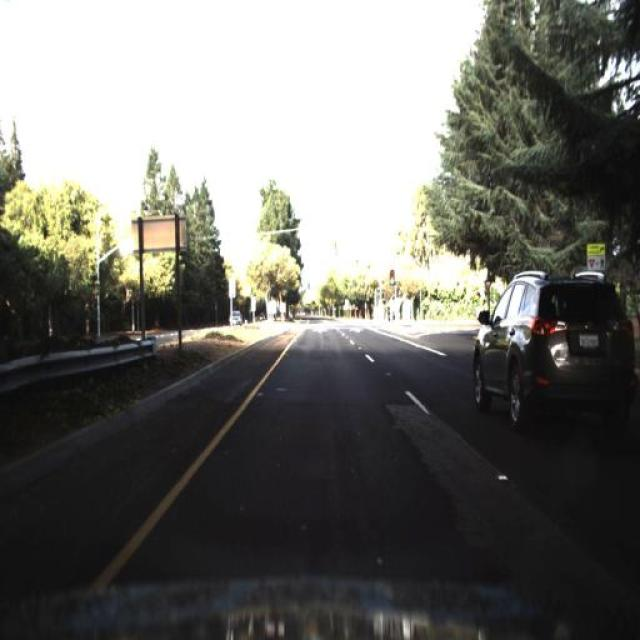car: (469, 269, 636, 437), (230, 307, 244, 329)
trafficLight-GreenLeft: (388, 266, 398, 292)
